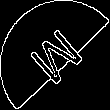M_SE: (22, 21, 88, 89)
